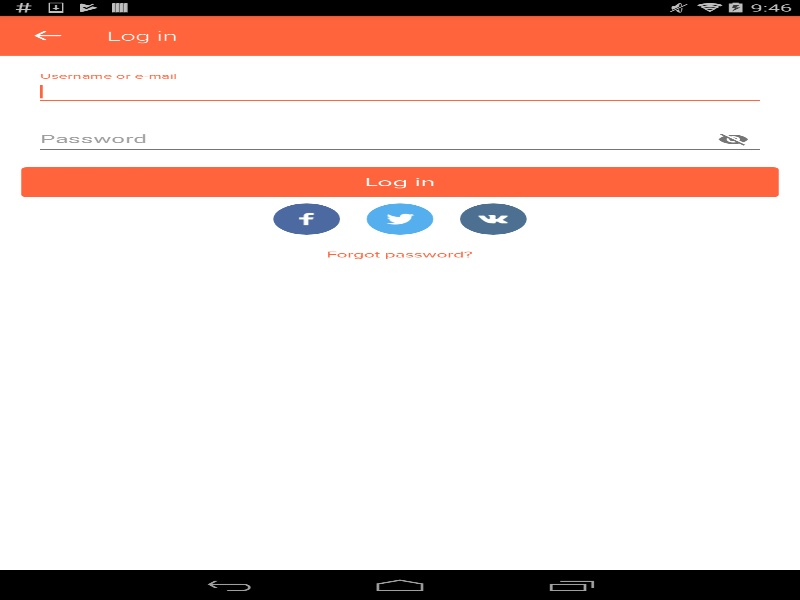Button: (21, 167, 778, 197), (10, 15, 85, 55), (273, 203, 340, 234), (366, 203, 433, 234), (459, 203, 526, 234), (701, 124, 765, 154)
Input: (34, 124, 765, 154), (34, 78, 765, 105)
